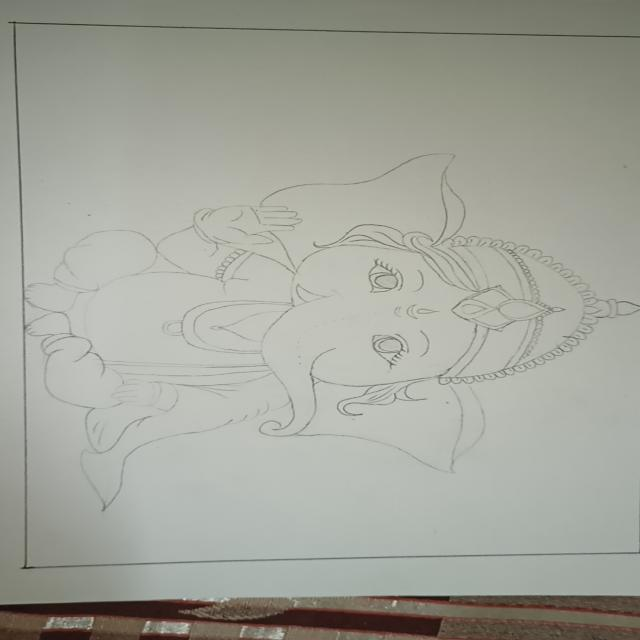notebook: (12, 27, 640, 557)
